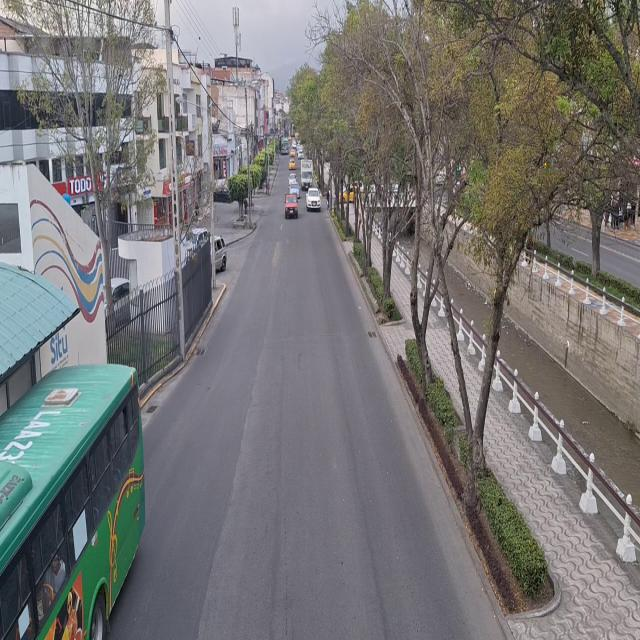BUS: (0, 369, 134, 640)
CMT: (285, 194, 298, 218)
SUV: (307, 189, 320, 210)
TRUCK: (301, 162, 313, 189)
